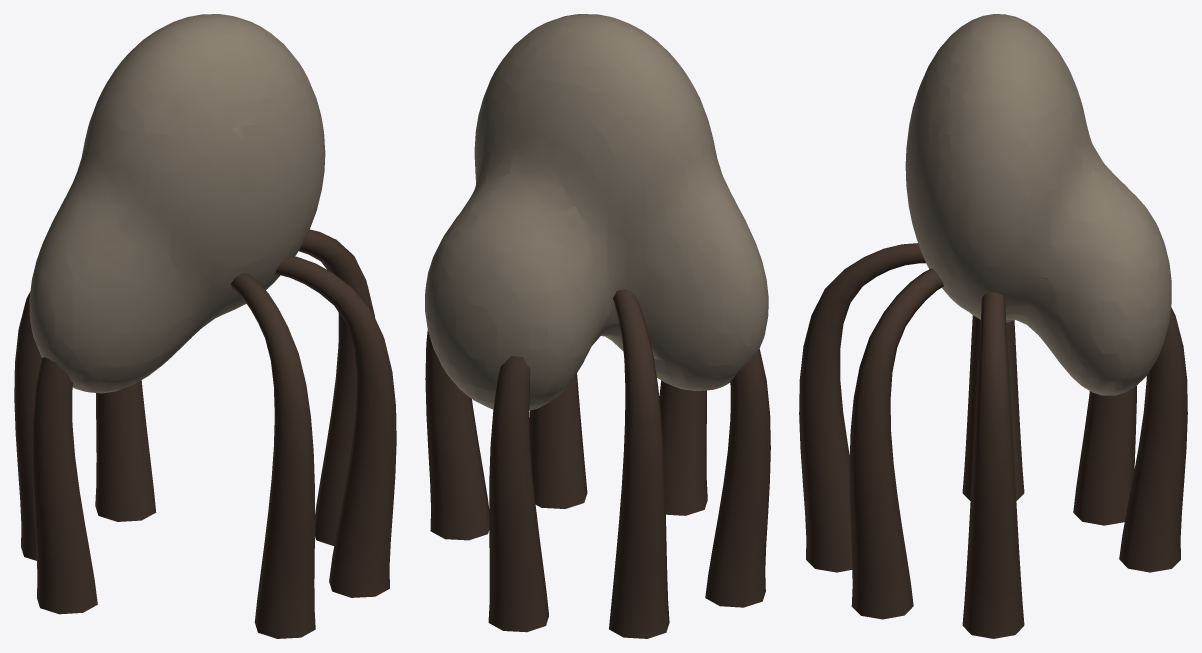
The model's file is quaternius-ultimate-space-tree-blob-1.glb.
The picture shows the model from 3 angles, left to right: view 1: azimuth 30°, elevation 25°; view 2: azimuth 150°, elevation 25°; view 3: azimuth 270°, elevation 25°; orthographic projection.
Parts seen in each view (by area): view 1: Tree_Blob_1; view 2: Tree_Blob_1; view 3: Tree_Blob_1.
Part boxes in pixels (box(x1,y1,x2,y2)): Tree_Blob_1: box(14, 14, 396, 638); Tree_Blob_1: box(425, 14, 770, 638); Tree_Blob_1: box(799, 14, 1187, 638).
Size of the model in its own units: 3.86 by 5.88 by 3.86.
1 material, 1 textured.
